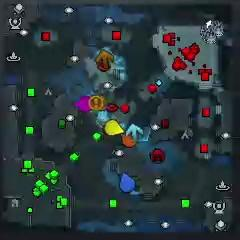p1: (119, 172, 135, 192)
p3: (75, 96, 95, 113)
p4: (104, 119, 124, 135)
p5: (121, 133, 137, 147)
x3: (126, 124, 144, 142)
x5: (96, 49, 114, 68)
